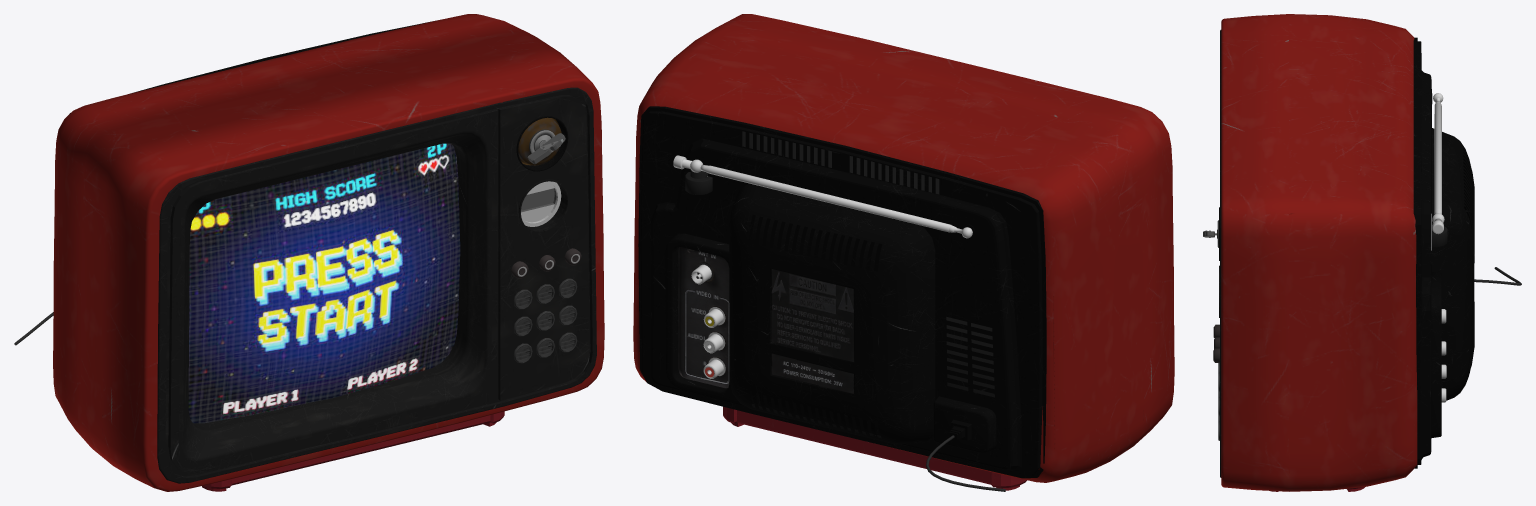
The picture shows the model from 3 angles, left to right: view 1: azimuth 30°, elevation 25°; view 2: azimuth 150°, elevation 25°; view 3: azimuth 270°, elevation 25°; orthographic projection. The views are drawn at different scales.
Visible parts, largest first — view 1: Body_23, Screen_21, Frame_14, Frame.002_15, Cylinder.005_9, Cube.003_1, Nob2_17, Nob1_16, Plane.001_19; view 2: Body_23, Plane.001_19, Cube.005_3, Cube.006_4, Cube.003_1, Cube.004_2, Outlet_18; view 3: Body_23, Cube.005_3, Plane.001_19, Cube.006_4, Cube.004_2, Frame_14.
Boxes of the visible parts, bbox=[...] form: Body_23: bbox=[53, 14, 604, 491]; Screen_21: bbox=[188, 143, 460, 423]; Frame_14: bbox=[157, 87, 596, 483]; Frame.002_15: bbox=[178, 126, 491, 464]; Cylinder.005_9: bbox=[513, 278, 577, 363]; Cube.003_1: bbox=[202, 411, 504, 491]; Nob2_17: bbox=[518, 179, 569, 233]; Nob1_16: bbox=[516, 116, 568, 171]; Plane.001_19: bbox=[69, 20, 435, 114]; Body_23: bbox=[633, 14, 1174, 482]; Plane.001_19: bbox=[638, 106, 1046, 478]; Cube.005_3: bbox=[729, 184, 935, 444]; Cube.006_4: bbox=[665, 233, 754, 404]; Cube.003_1: bbox=[723, 406, 1026, 490]; Cube.004_2: bbox=[673, 155, 972, 238]; Outlet_18: bbox=[933, 396, 996, 452]; Body_23: bbox=[1221, 14, 1417, 491]; Cube.005_3: bbox=[1431, 128, 1474, 400]; Plane.001_19: bbox=[1413, 37, 1432, 468]; Cube.006_4: bbox=[1431, 264, 1441, 438]; Cube.004_2: bbox=[1432, 93, 1447, 247]; Frame_14: bbox=[1220, 30, 1221, 477].
Size of the model in its own units: 0.7038 by 0.506 by 0.456.
38 materials, 13 textured.
